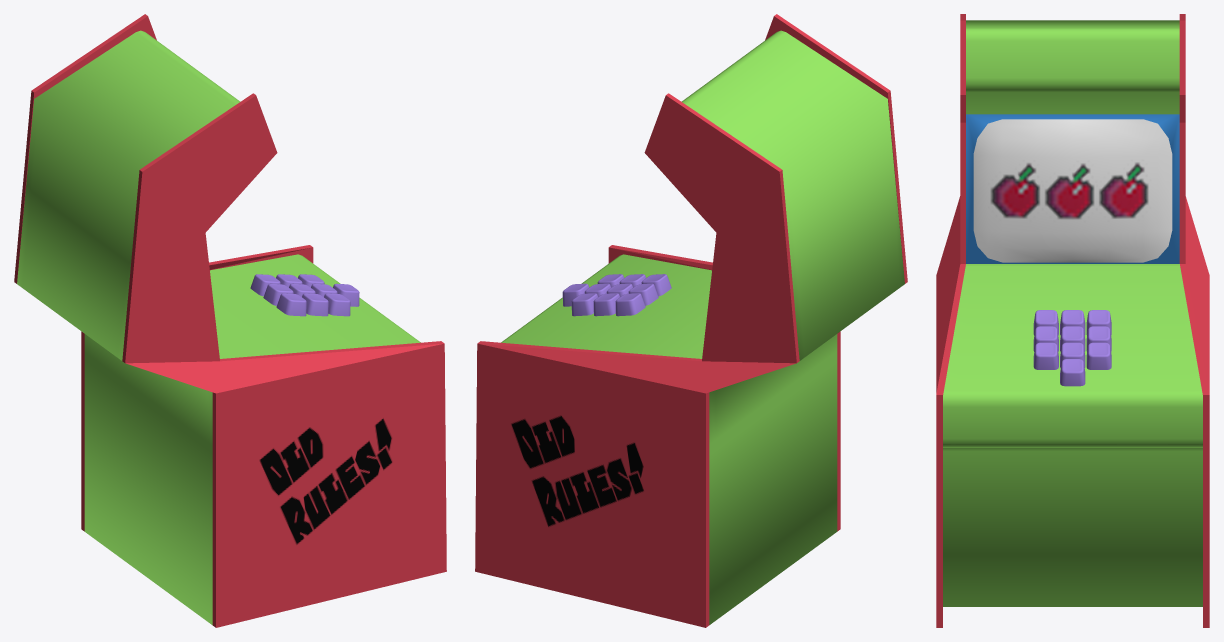
File: Arcade Machine 5.glb
The picture shows the model from 3 angles, left to right: view 1: azimuth 30°, elevation 25°; view 2: azimuth 150°, elevation 25°; view 3: azimuth 270°, elevation 25°; orthographic projection.
Parts seen in each view (by area): view 1: Frame, Body; view 2: Frame, Body; view 3: Body, Screen, Frame, Screen Frame, Btn 0, Btn 9, Btn 7, Btn 3, Btn 2, Btn 1, Btn 5, Btn 6 (+2 smaller).
Boxes of the visible parts, x1,y1,x2,y2 form: Frame: (14, 14, 446, 627); Body: (17, 30, 420, 624); Frame: (475, 14, 907, 627); Body: (501, 30, 904, 624); Body: (943, 20, 1202, 606); Screen: (973, 119, 1172, 262); Frame: (936, 14, 1209, 627); Screen Frame: (966, 114, 1179, 263); Btn 0: (1060, 359, 1085, 386); Btn 9: (1086, 342, 1111, 369); Btn 7: (1033, 342, 1058, 369); Btn 3: (1086, 310, 1111, 335); Btn 2: (1060, 310, 1085, 335); Btn 1: (1033, 310, 1058, 335); Btn 5: (1060, 326, 1085, 351); Btn 6: (1086, 326, 1111, 351).
Size of the model in its own units: 1.56 by 2.46 by 1.18.
Materials: 5 (2 with a texture image).
